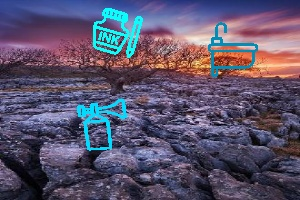喷壶: (78, 98, 126, 149)
墨水: (94, 8, 143, 59)
浴缸: (208, 21, 261, 77)
